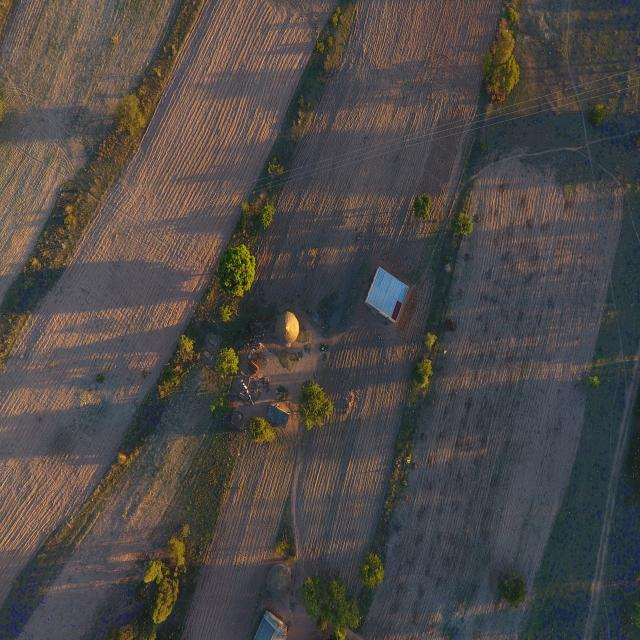boundaries: (9, 23, 195, 318), (361, 181, 494, 554)
